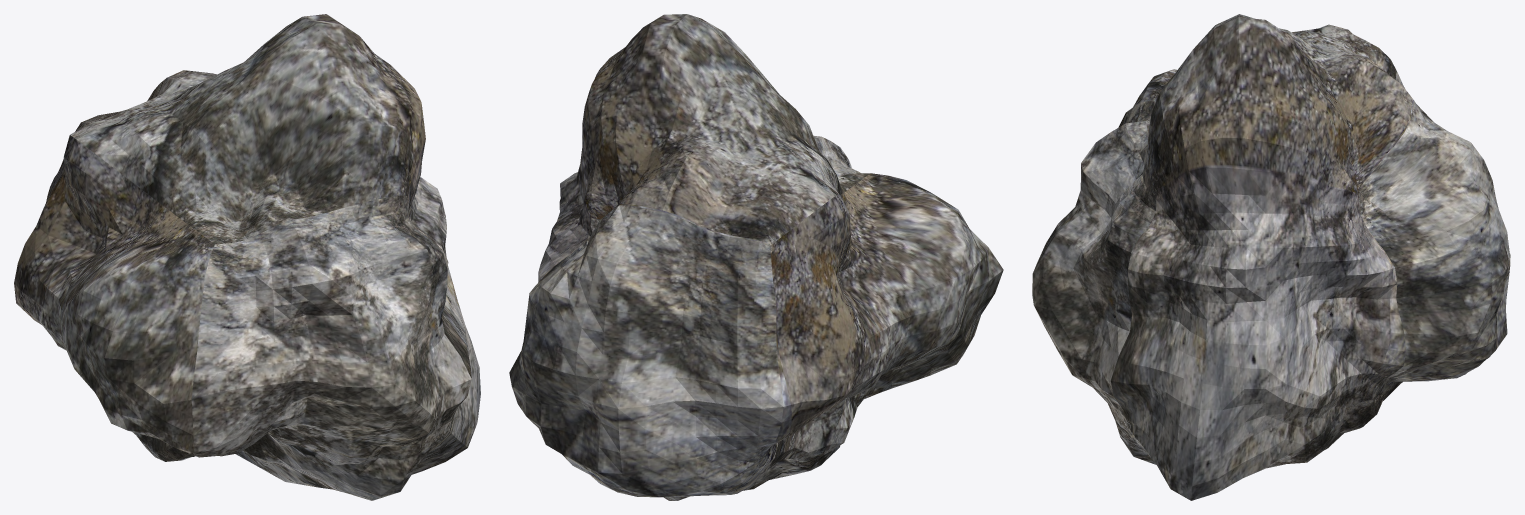
File: ast4.obj
The picture shows the model from 3 angles, left to right: view 1: azimuth 30°, elevation 25°; view 2: azimuth 150°, elevation 25°; view 3: azimuth 270°, elevation 25°; orthographic projection. The views are drawn at different scales.
Parts seen in each view (by area): view 1: Cube; view 2: Cube; view 3: Cube.
Part boxes in pixels (x1,y1,x2,y2): Cube: [14, 14, 480, 500]; Cube: [509, 14, 1003, 500]; Cube: [1032, 14, 1510, 500].
Size of the model in its own units: 1.83 by 1.98 by 1.91.
1 material, 1 textured.
